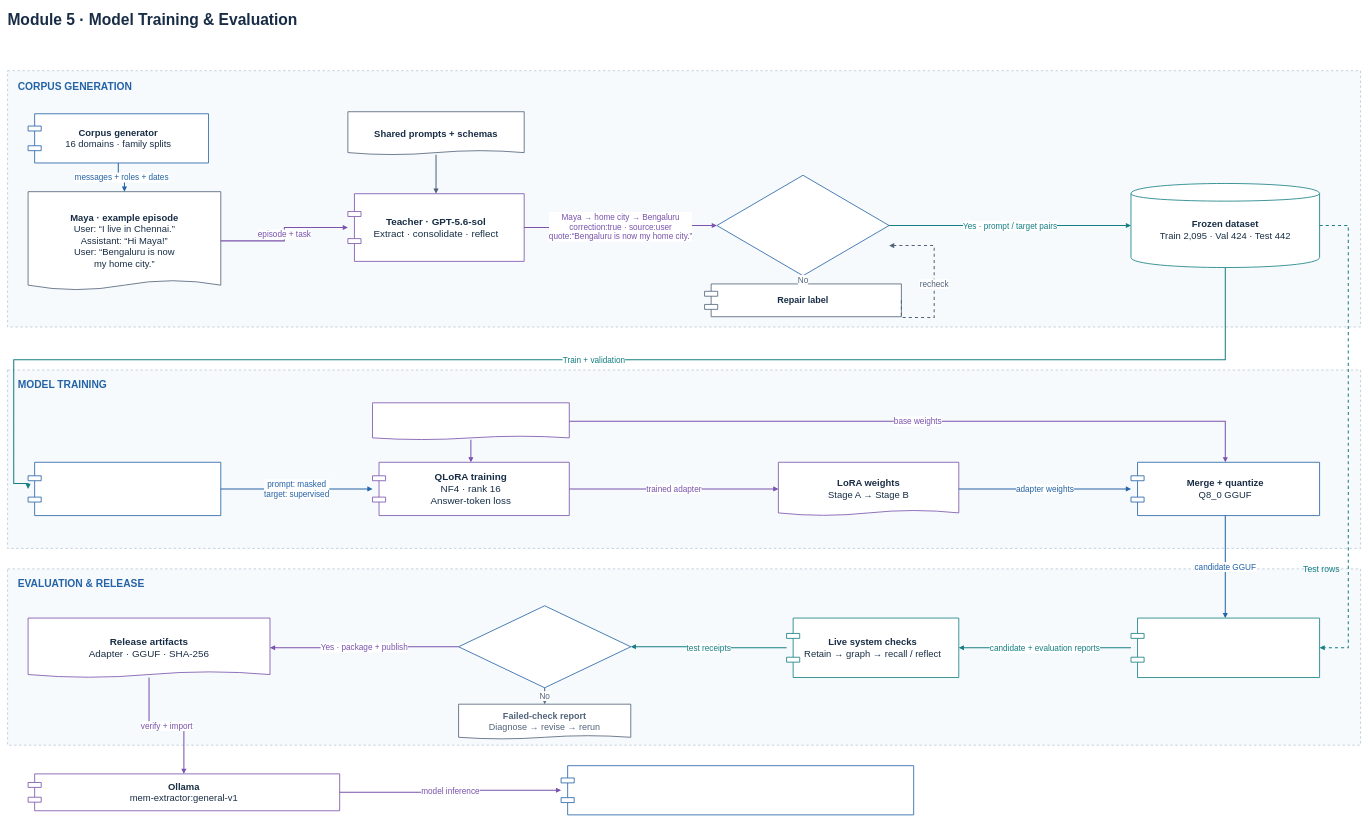
Some shapes in this 1368 by 822 pixel diagram are drawn without their labels. Each missing label, with the centre of its shape:
Evaluate base vs student 64 internal · 16 external cases: pixel 1225 647
Label valid? Structure + evidence: pixel 802 225
Memory service Module 2: extract / consolidate Module 4: reflect: pixel 737 790
Qwen3-4B-Instruct-2507 Frozen base weights: pixel 470 421
Release checks pass?: pixel 544 646
Tokenize + mask 4,096-token limit: pixel 124 489
